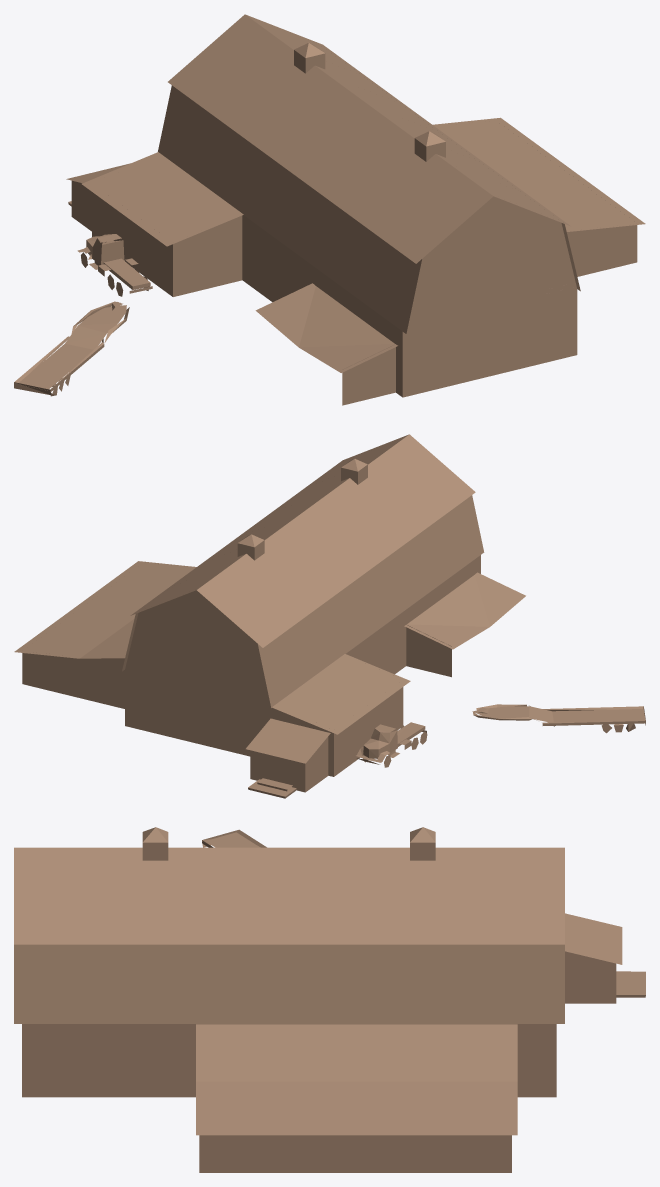
The model's file is stables_b-map.glb.
3 renders of one model, top to bottom at view 1: azimuth 30°, elevation 25°; view 2: azimuth 150°, elevation 25°; view 3: azimuth 270°, elevation 25°, orthographic. The views are drawn at different scales.
Visible parts, largest first — view 1: stables_b_hlod; view 2: stables_b_hlod; view 3: stables_b_hlod.
Part boxes in pixels (bbox=[...]): stables_b_hlod: bbox=[14, 14, 645, 405]; stables_b_hlod: bbox=[14, 434, 645, 798]; stables_b_hlod: bbox=[14, 827, 645, 1172].
Size of the model in its own units: 52.8 by 16.63 by 42.6.
